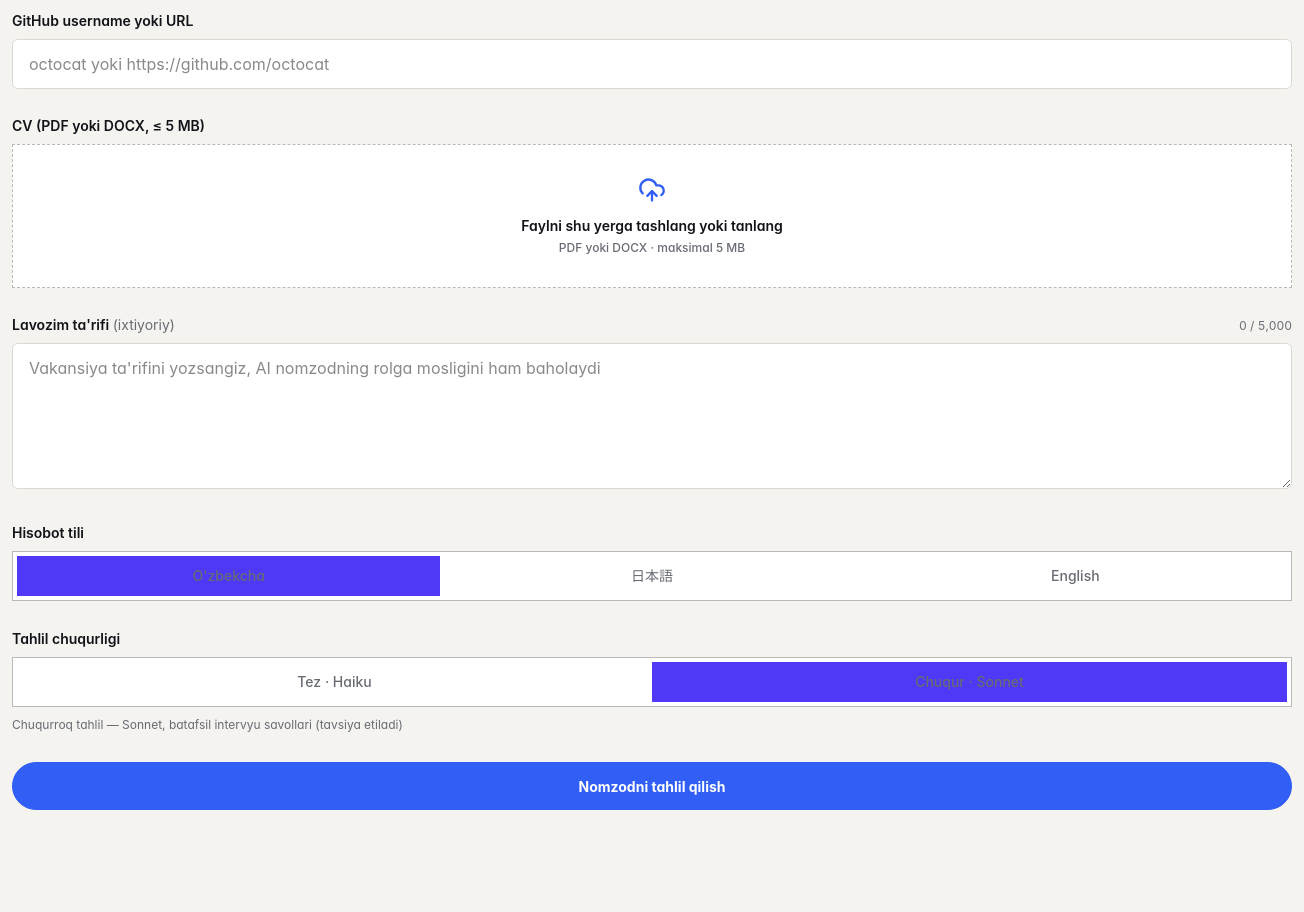
it: CandidateUploadForm › required inputlarni accessible inline xato bilan tekshiradi
What coordinates should you click on to do the following:
click the button "Nomzodni tahlil qilish"
I would click on:
 (652, 786)
Its box is [12,762,1292,810].
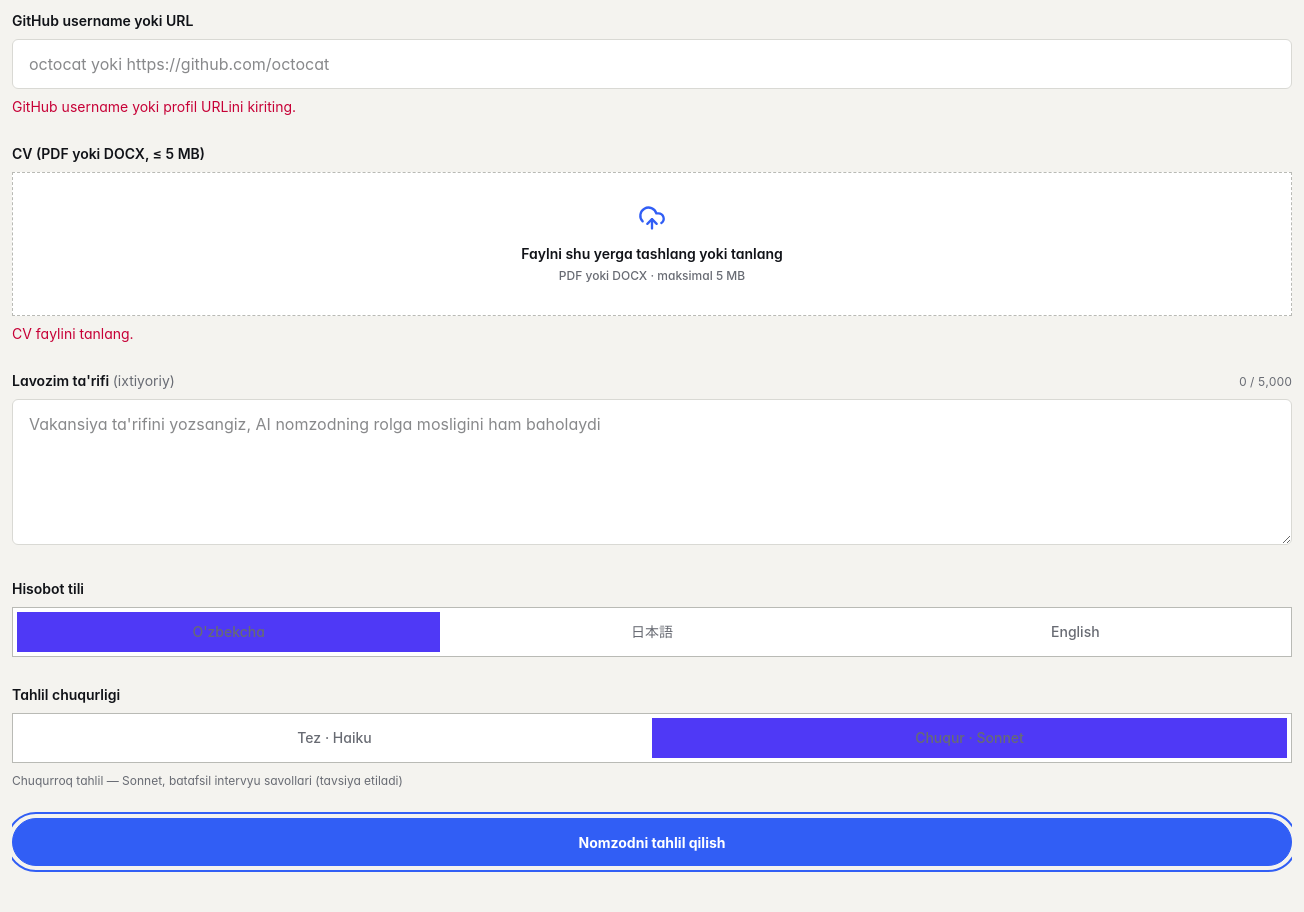
Check: the text "GitHub username yoki profil URLini kiriting." is shown, box [12,98,296,115]
Check: the text "CV faylini tanlang." is shown, box [12,325,134,342]
